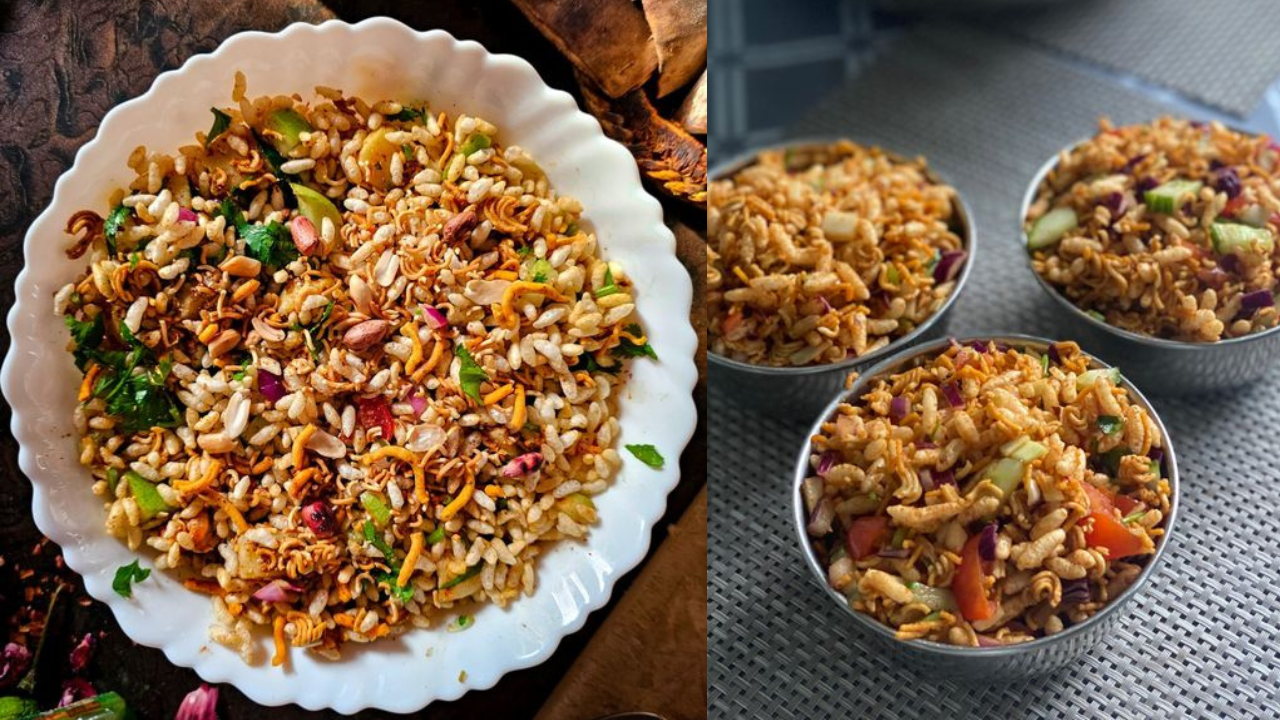chatpate: (90, 125, 597, 605), (858, 362, 1107, 625), (1062, 150, 1280, 313), (723, 167, 925, 337)
